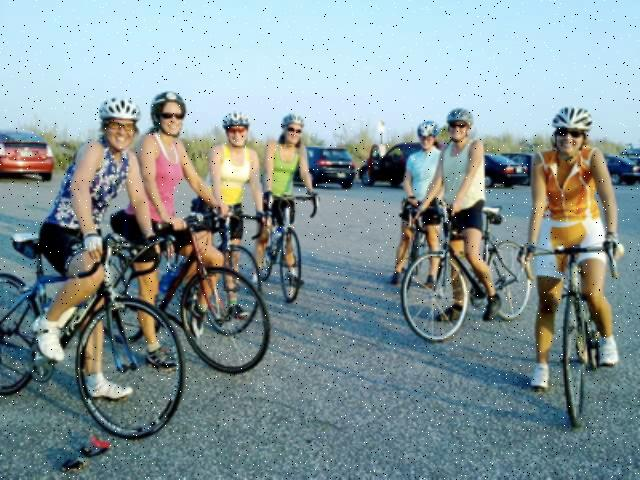With Helmet: (96, 96, 140, 152), (550, 102, 592, 154), (146, 88, 188, 139), (220, 111, 254, 149), (280, 108, 308, 150), (446, 107, 476, 146), (413, 117, 441, 151)
